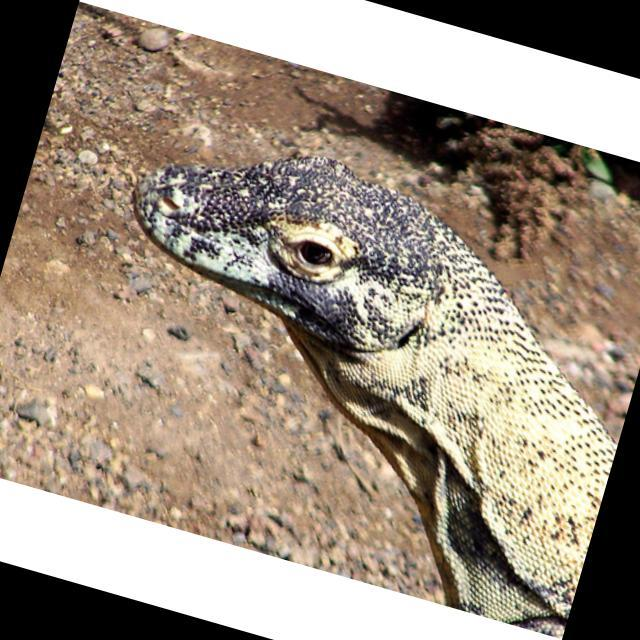KomodoDragon: (44, 105, 640, 635)
